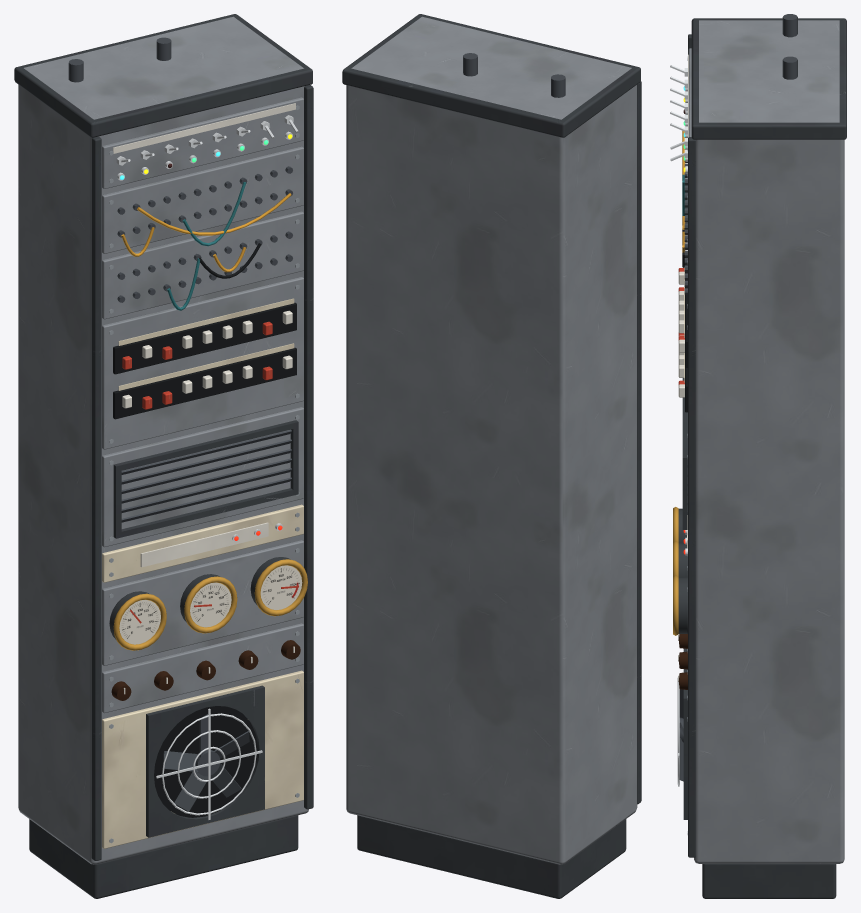
The model's file is Rack_60_0.glb.
3 views of the same model, side by side, from view 1: azimuth 30°, elevation 25°; view 2: azimuth 150°, elevation 25°; view 3: azimuth 270°, elevation 25° (orthographic).
Visible parts, largest first — view 1: Rack_60_0_Body; view 2: Rack_60_0_Body; view 3: Rack_60_0_Body.
Part boxes in pixels (x1,y1,x2,y2): Rack_60_0_Body: (14,14,313,898); Rack_60_0_Body: (342,14,641,898); Rack_60_0_Body: (670,14,846,898).
Size of the model in its own units: 0.61 by 2.1 by 0.4216.
Materials: 20 (9 with a texture image).
